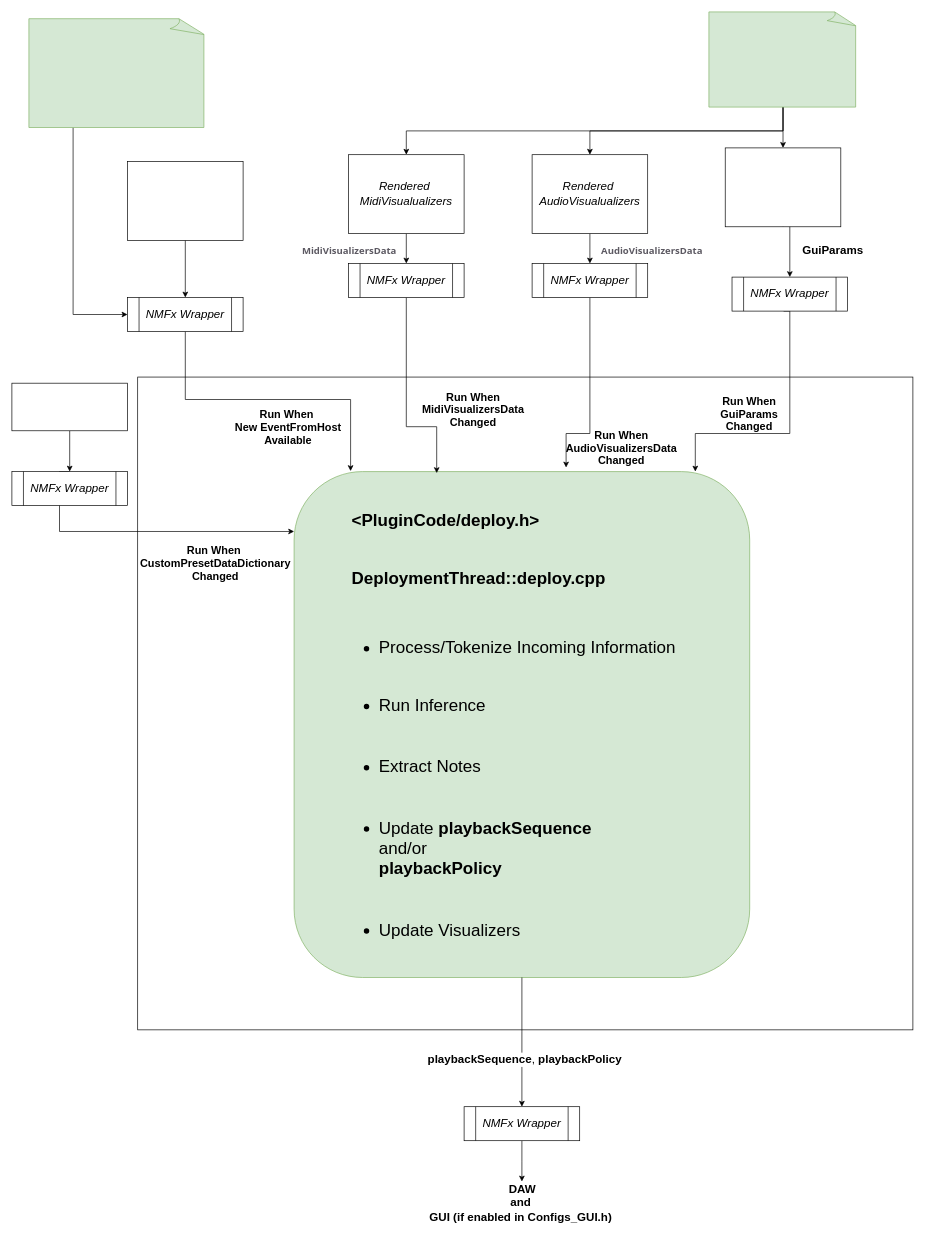
Image size: 925x1236. Some labels were removed from this diagram. Each missing label, with the box of its shape:
Configs_HostEvents.h Specify What Information You Need From Host: (28, 18, 206, 128)
Incoming Midi and DAW Status (Tempo, Meter, Position): (127, 161, 243, 240)
Preset Loaded: (11, 382, 128, 431)
Rendered Sliders/Rotaries Buttons ComboBoxes: (725, 147, 841, 227)
Settings.json Specify Required Interactive Parameters: (708, 11, 857, 107)
